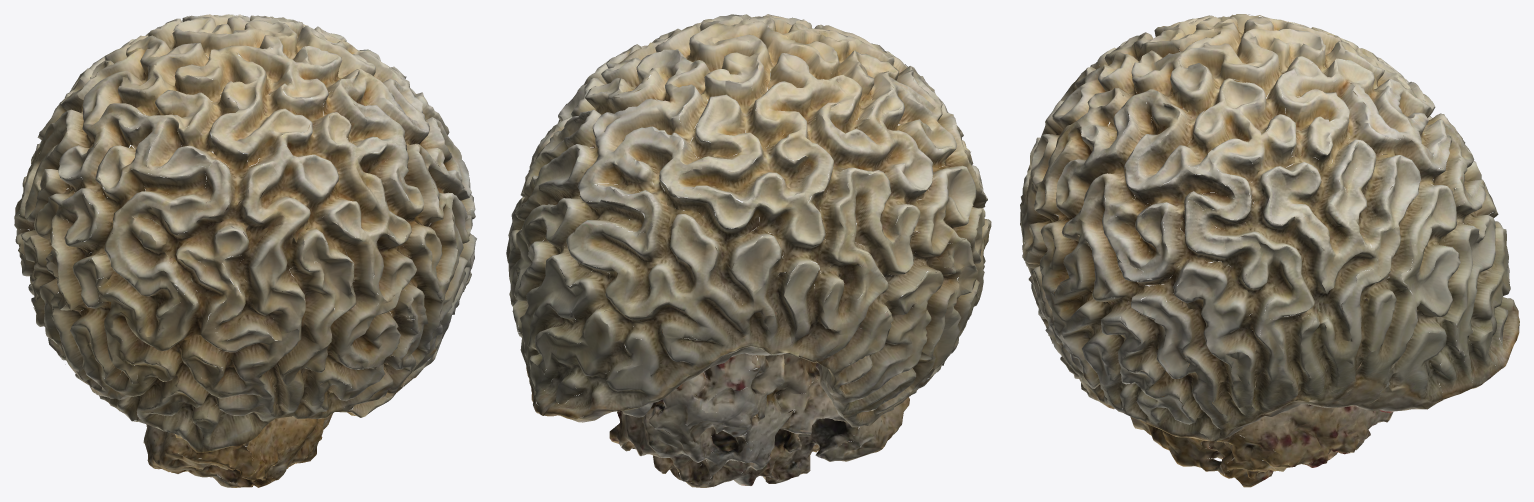
Rendered from brain.glb.
3 views of the same model, side by side, from view 1: azimuth 30°, elevation 25°; view 2: azimuth 150°, elevation 25°; view 3: azimuth 270°, elevation 25° (orthographic). The views are drawn at different scales.
Visible parts, largest first — view 1: Smithsonian scan — brain; view 2: Smithsonian scan — brain; view 3: Smithsonian scan — brain.
Part boxes in pixels (<box>): Smithsonian scan — brain: <box>14,14,476,487</box>; Smithsonian scan — brain: <box>506,14,991,487</box>; Smithsonian scan — brain: <box>1020,14,1519,487</box>.
Bounding box in the file's own units: 0.9304 × 0.935 × 1.
1 material, 1 textured.
